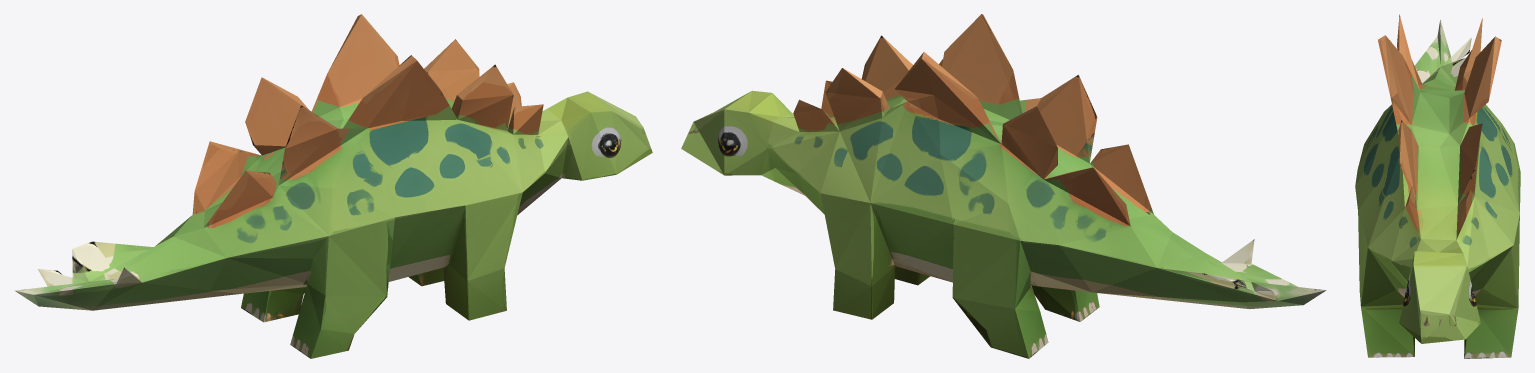
3 views of the same model, side by side, from view 1: azimuth 30°, elevation 25°; view 2: azimuth 150°, elevation 25°; view 3: azimuth 270°, elevation 25° (orthographic). The views are drawn at different scales.
Visible parts, largest first — view 1: Figure; view 2: Figure; view 3: Figure.
Part boxes in pixels (<box>): Figure: <box>15,14,652,358</box>; Figure: <box>681,14,1326,358</box>; Figure: <box>1355,14,1520,358</box>.
Size of the model in its own units: 0.9978 by 0.4119 by 0.2206.
Materials: 1 (1 with a texture image).
